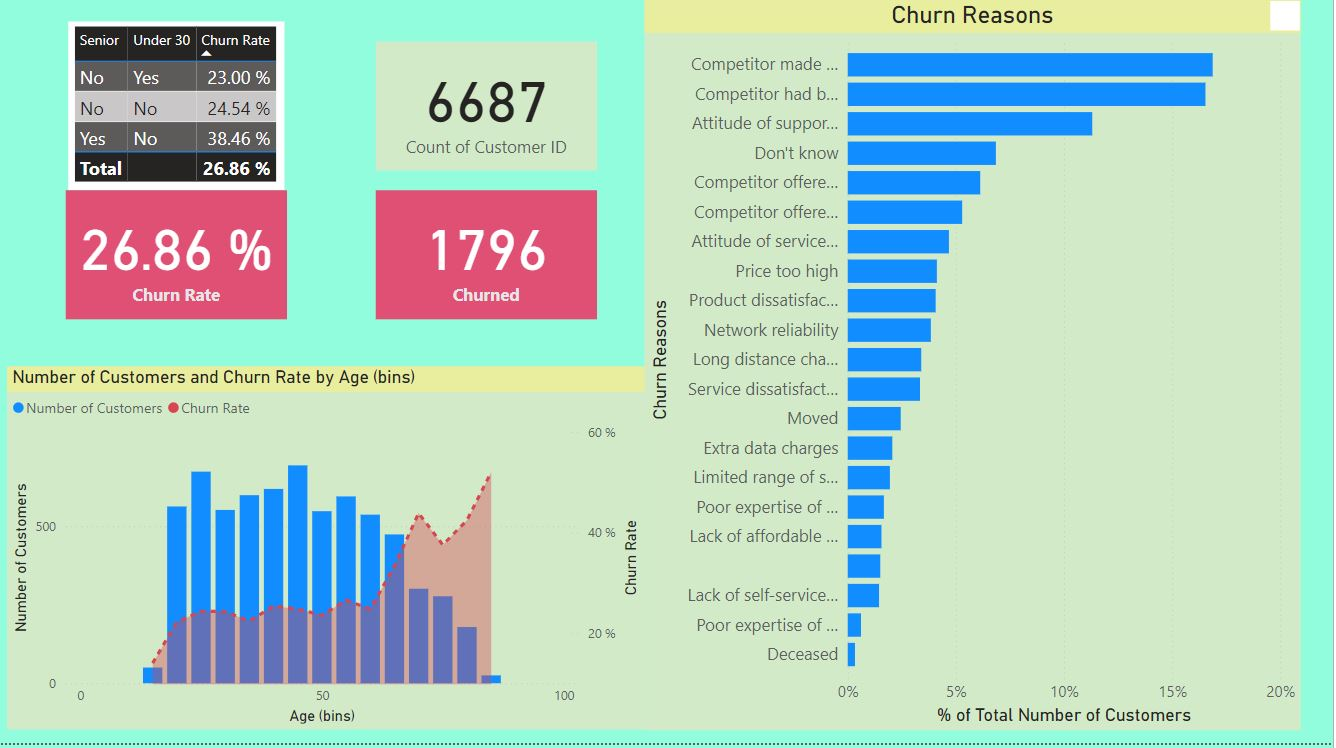

The page's visual inventory and layout, read from the dashboard file:
{"tool":"powerbi","page":{"name":"Churn Demographics","canvas":[1280,720],"ordinal":0},"visuals":[{"type":"tableEx","fields":{"Values":["Databel - Data.Senior","Databel - Data.Under 30","Databel - Data.Churn Rate"]},"box":[72.8,31,206.4,161.1],"z":0},{"type":"clusteredBarChart","title":"Churn Reasons","fields":{"Category":["Databel - Data.Churn Reason"],"Y":["CountNonNull(Databel - Data.Number of Customers in Group)"]},"box":[623.2,10.3,626.2,696.5],"z":1000},{"type":"card","fields":{"Values":["Databel - Data.Churn Rate"]},"box":[70.4,192.1,211.2,122.9],"z":2000},{"type":"lineStackedColumnComboChart","fields":{"Category":["Databel - Data.Age (bins)"],"Y":["Databel - Data.Number of costumers"],"Y2":["Databel - Data.Churn Rate"]},"box":[14.7,360.7,608.6,346.1],"z":3000},{"type":"card","fields":{"Values":["Count(Databel - Data.Customer ID)"]},"box":[366.6,49.9,211.2,123.2],"z":4000},{"type":"card","fields":{"Values":["Sum(Databel - Data.Churned)"]},"box":[366.6,192.1,211.2,123.2],"z":5000}]}

Visuals, with their boxes in screenshot pixels (x1, y1, x2, y2), scaled from the page's 1280x720 canvas onto the 1336x748 screenshot:
tableEx - Databel - Data.Senior x Databel - Data.Under 30: bbox=(76, 32, 291, 200)
"Churn Reasons" clusteredBarChart: bbox=(650, 11, 1304, 734)
card - Databel - Data.Churn Rate: bbox=(73, 200, 294, 327)
lineStackedColumnComboChart - Databel - Data.Age (bins) x Databel - Data.Number of costumers: bbox=(15, 375, 651, 734)
card - Count(Databel - Data.Customer ID): bbox=(383, 52, 603, 180)
card - Sum(Databel - Data.Churned): bbox=(383, 200, 603, 328)
